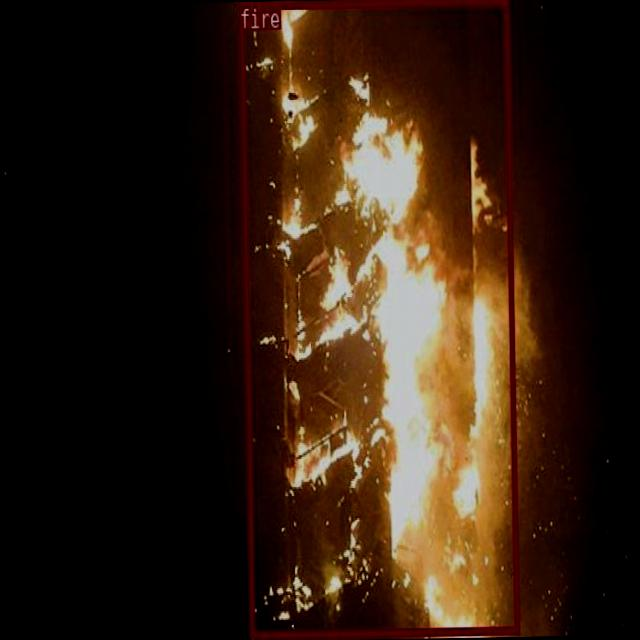fire: (238, 0, 517, 636)
